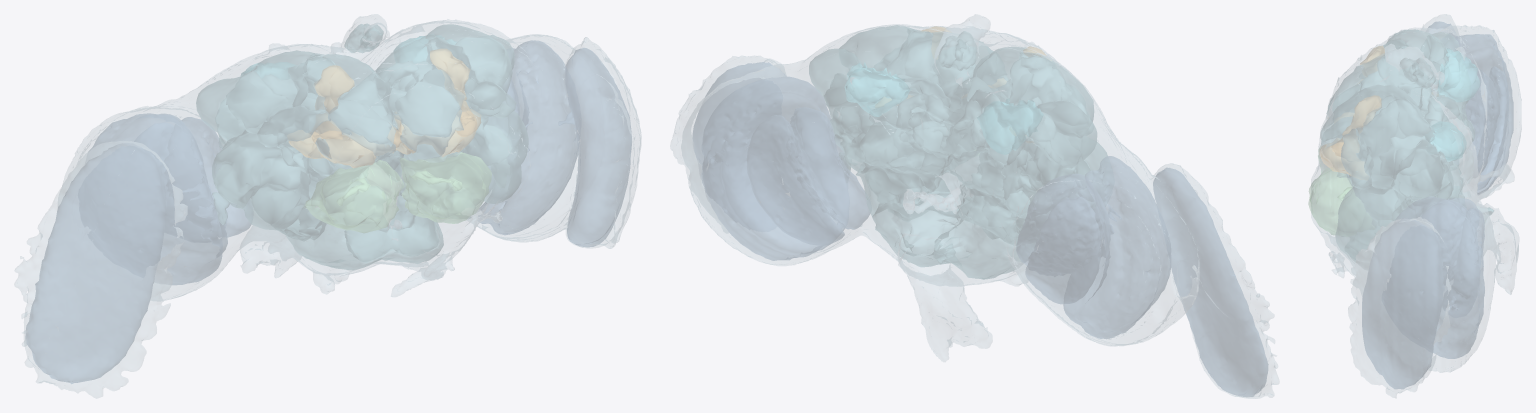
File: flywire-brain.glb
3 views of the same model, side by side, from view 1: azimuth 30°, elevation 25°; view 2: azimuth 150°, elevation 25°; view 3: azimuth 270°, elevation 25° (orthographic). The views are drawn at different scales.
Visible parts, largest first — view 1: LA_L, ME_R, LA_R, ME_L, Whole_brain, AVLP_L, SMP_R, AL_L, AL_R, SLP_L, SMP_L, AVLP_R (+15 smaller); view 2: LA_L, ME_L, ME_R, Whole_brain, GNG, LOP_R, LOP_L, LO_R, LH_L, SLP_L, SPS_R, PLP_L (+17 smaller); view 3: LA_R, ME_R, Whole_brain, SLP_R, AVLP_R, LH_R, SMP_L, ME_L, LO_L, AL_R, MB_CA_L, SMP_R (+14 smaller).
Boxes of the visible parts, x1,y1,x2,y2 form: LA_L: (25, 143, 166, 383); ME_R: (478, 40, 577, 234); LA_R: (565, 48, 631, 246); ME_L: (89, 113, 227, 284); Whole_brain: (15, 15, 640, 388); AVLP_L: (212, 130, 310, 229); SMP_R: (376, 34, 465, 137); AL_L: (305, 160, 404, 232); AL_R: (400, 152, 491, 223); SLP_L: (226, 50, 314, 133); SMP_L: (314, 53, 395, 146); AVLP_R: (464, 111, 528, 203); LA_L: (1153, 168, 1267, 396); ME_L: (1063, 156, 1170, 338); ME_R: (702, 77, 844, 260); Whole_brain: (672, 17, 1276, 398); GNG: (872, 194, 1021, 279); LOP_R: (747, 115, 844, 245); LOP_L: (1025, 197, 1100, 303); LO_R: (790, 107, 869, 229); LH_L: (1030, 100, 1096, 167); SLP_L: (1009, 56, 1093, 121); SPS_R: (859, 121, 947, 191); PLP_L: (1001, 137, 1075, 218); LA_R: (1362, 218, 1444, 388); ME_R: (1395, 197, 1484, 358); Whole_brain: (1314, 14, 1521, 392); SLP_R: (1359, 99, 1434, 188); AVLP_R: (1335, 186, 1407, 259); LH_R: (1391, 140, 1444, 200); SMP_L: (1328, 45, 1440, 111); ME_L: (1455, 34, 1513, 194); LO_L: (1465, 69, 1499, 173); AL_R: (1308, 168, 1352, 234); MB_CA_L: (1437, 48, 1479, 101); SMP_R: (1320, 85, 1427, 142).
Bounding box in the file's own units: 6 × 2.94 × 2.04.
